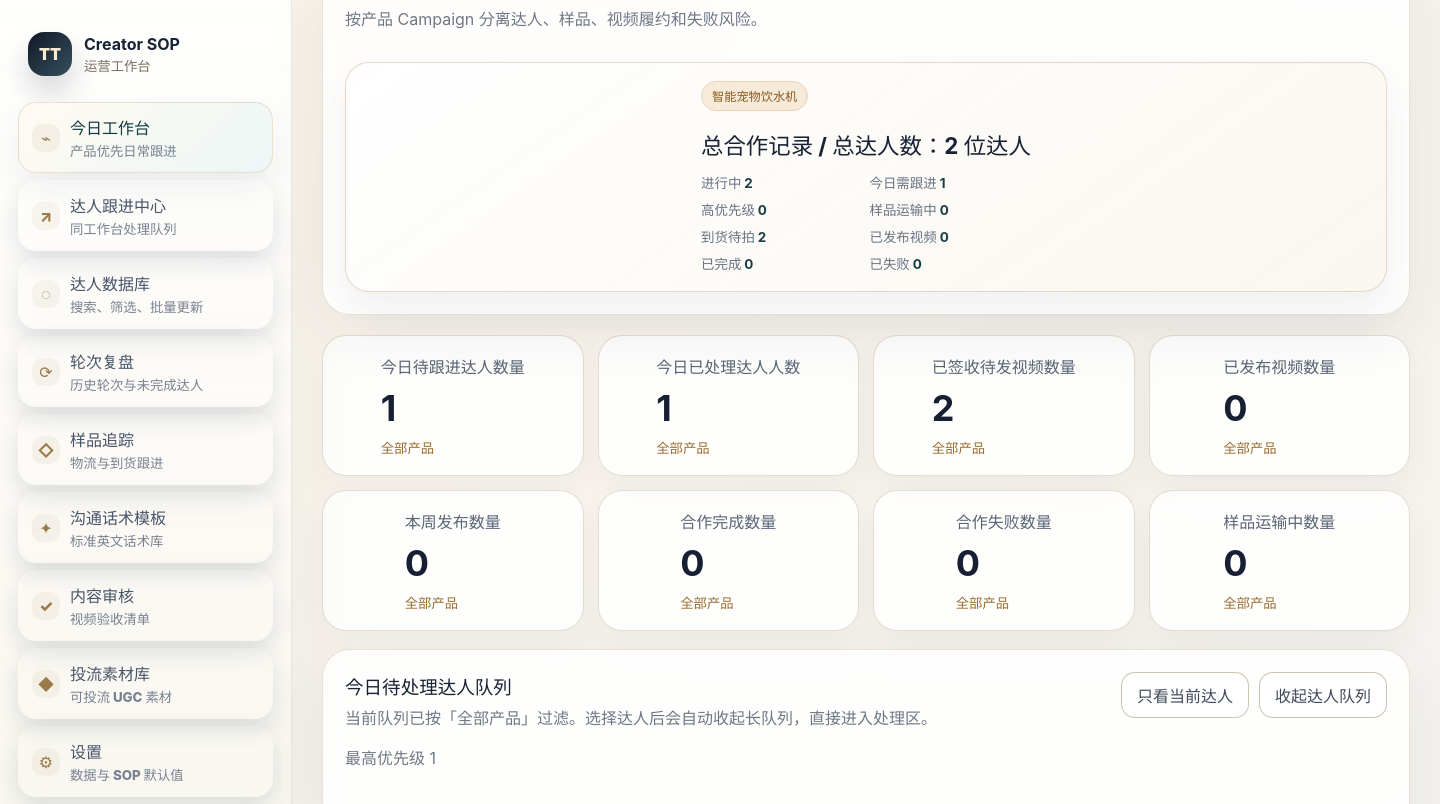
Test case: operations workbench navigation and dashboard › keeps overview card clicks on 今日工作台 and reveals processed creators from the processed card
(page scrolled)
Click the button "今日待跟进达人数量 1 全部产品" at (453,367), box [322,335,584,476]
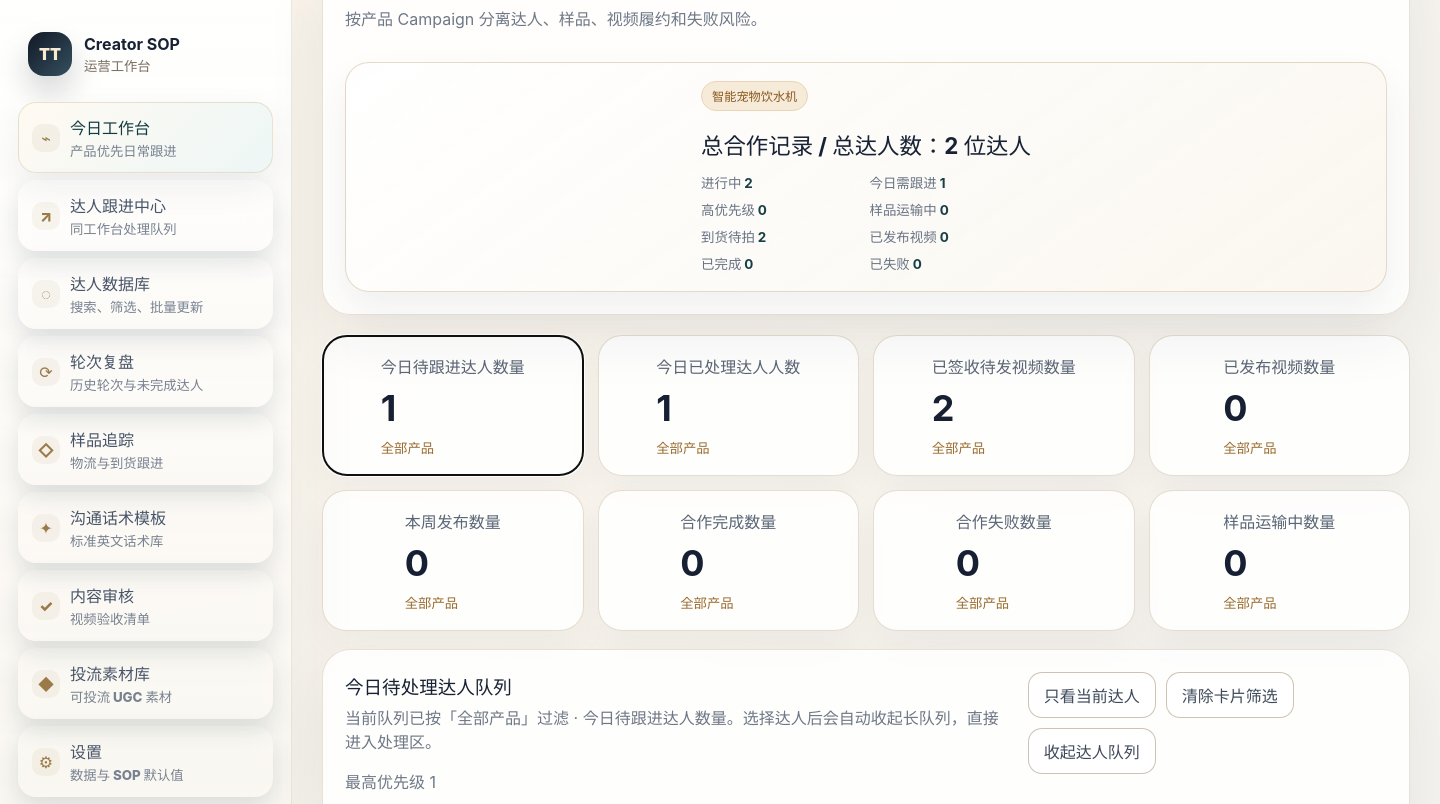
Expected: the heading "今日待处理达人队列" is shown, [345,676,512,698]
Click the button "今日已处理达人人数 1 全部产品" at (728,367), box [598,335,859,476]
(page scrolled)
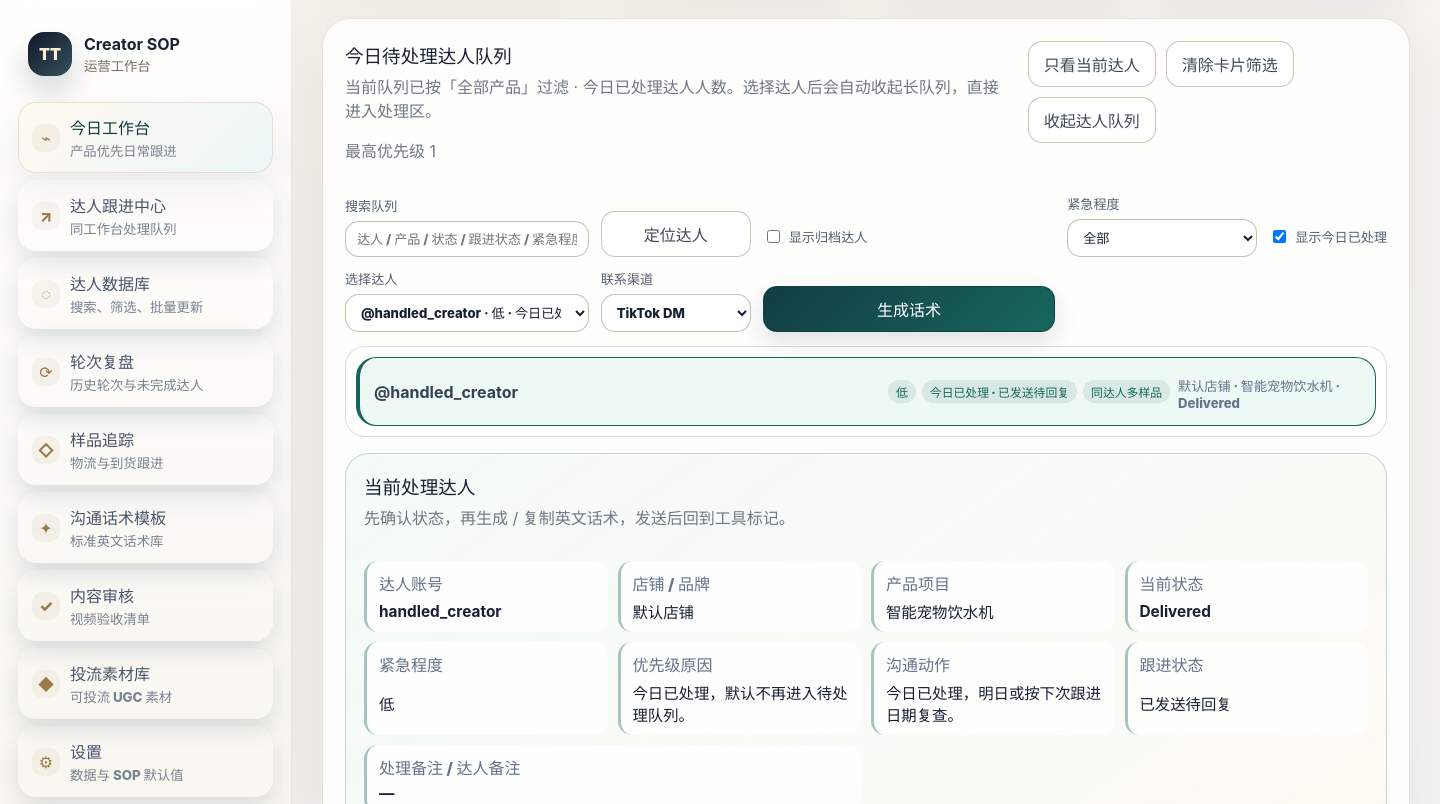
Expected: the checkbox labelled "显示今日已处理" is checked, [1273,230,1286,242]
Expected: the element with test id "creator-queue" shows "handled_creator", [356,357,1376,426]
Expected: the element with test id "creator-queue" shows "今日已处理", [356,357,1376,426]
